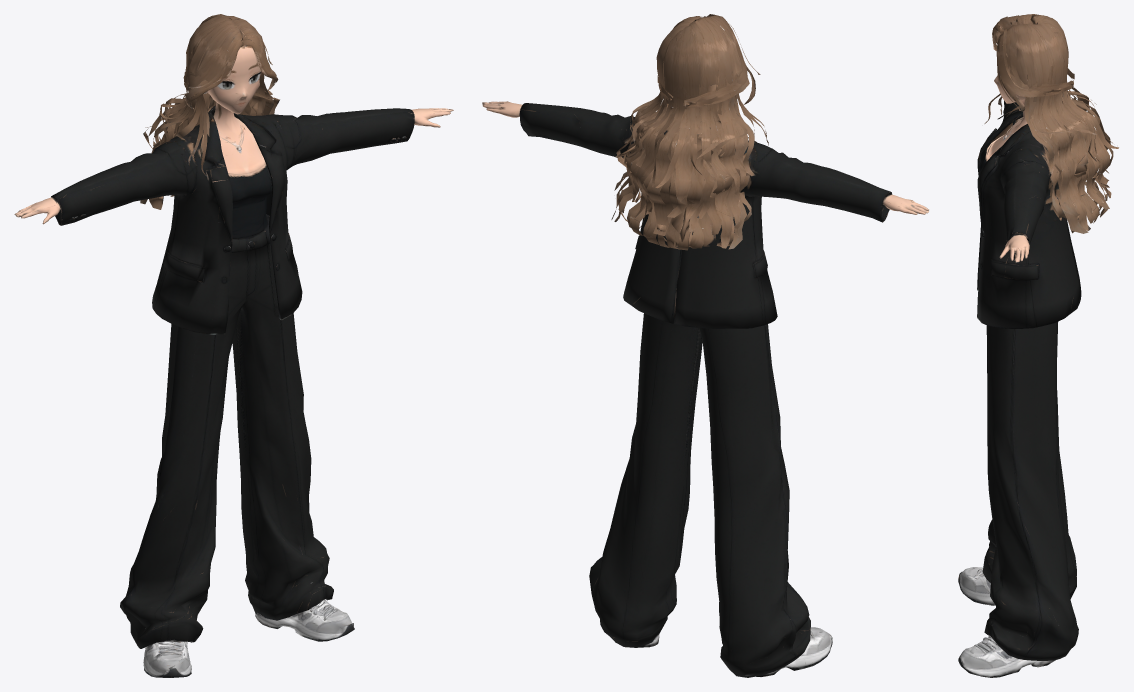
Rendered from masha.glb.
3 views of the same model, side by side, from view 1: azimuth 30°, elevation 25°; view 2: azimuth 150°, elevation 25°; view 3: azimuth 270°, elevation 25° (orthographic). The views are drawn at different scales.
Bounding box in the file's own units: 0.6997 × 0.9507 × 0.2246.
1 material, 1 textured.
